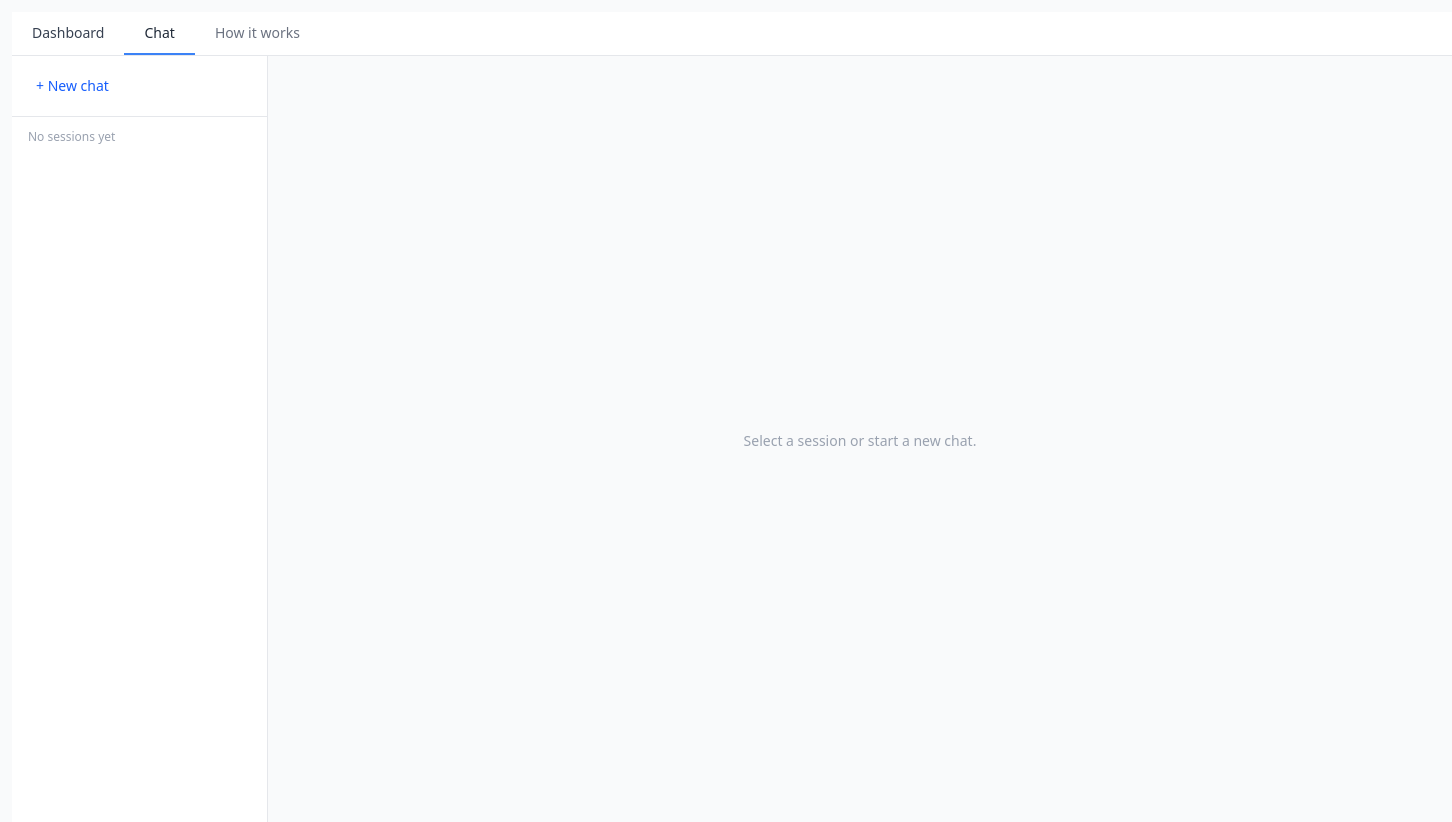
Test case: App tab shell › switches to How it works placeholder
Click the button "How it works": coordinates (257, 34) [195,12,320,55]
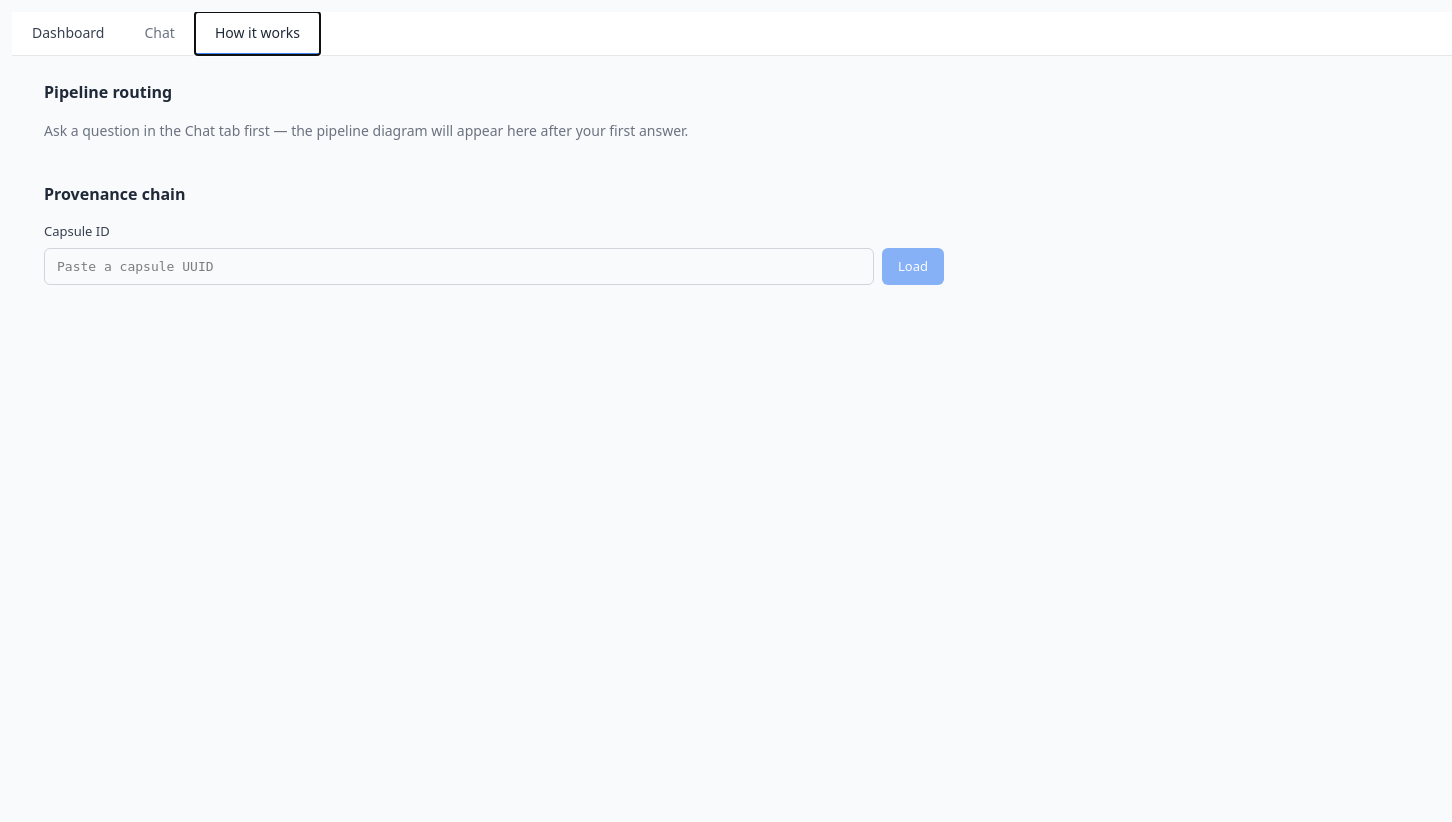
Now the text "Ask a question in the Chat tab first" is shown, box [44,121,688,140]
Now the button "+ New chat" is gone
